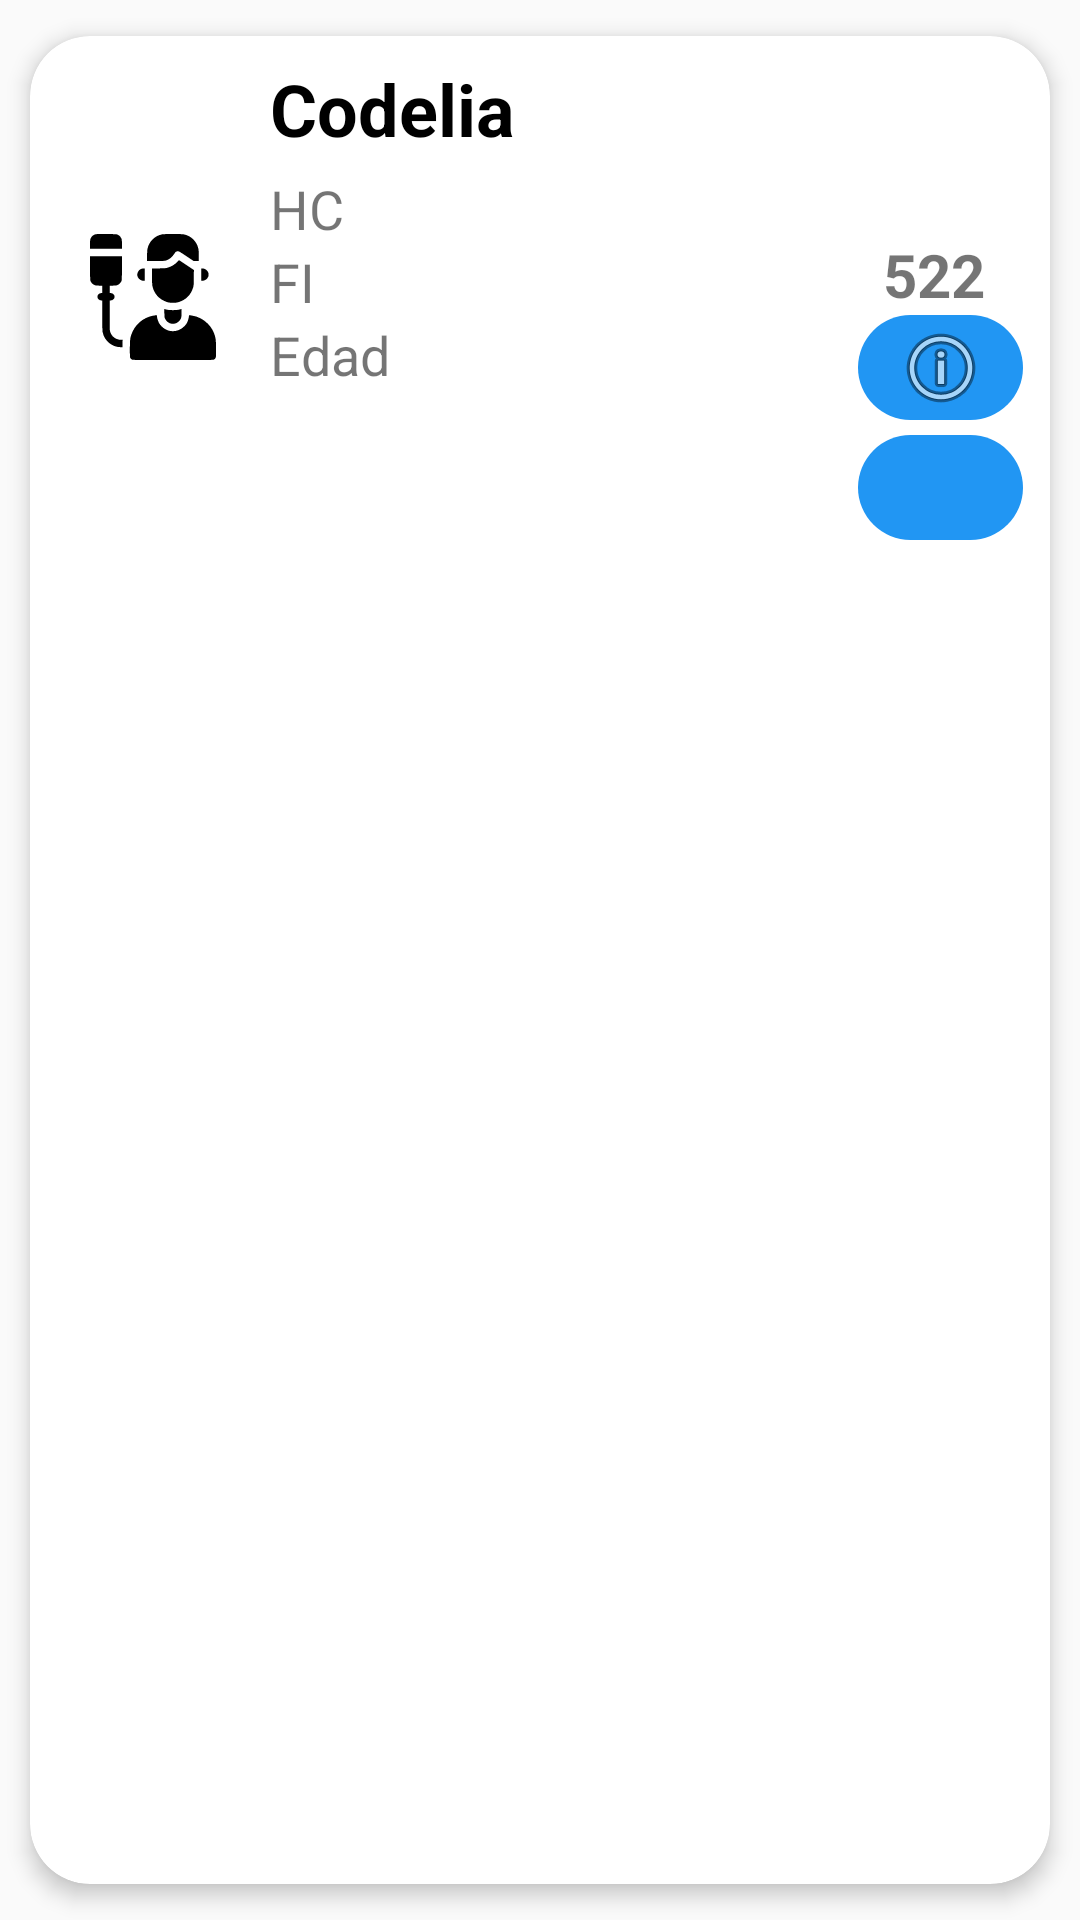

Locate icon controls on the screen. Image size 1080px×1920px, boxes as (x1, y1, x2, y2).
info details: (858, 315, 1023, 420)
